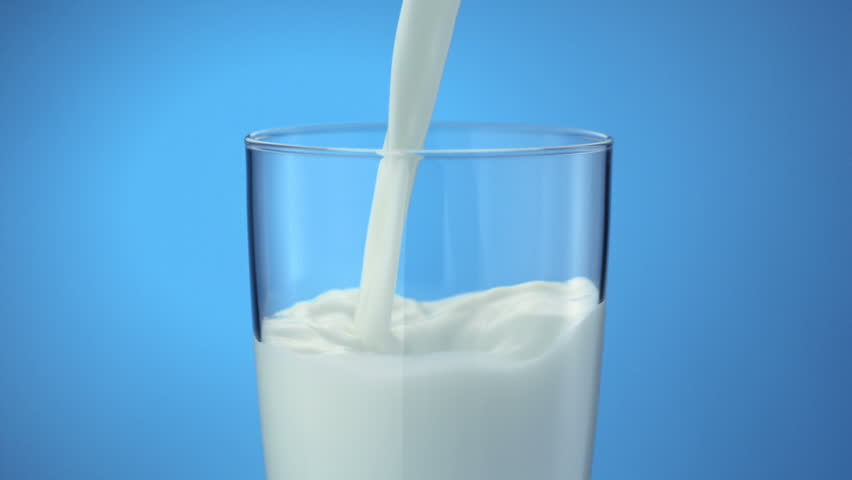glass of milk: (263, 133, 604, 470)
